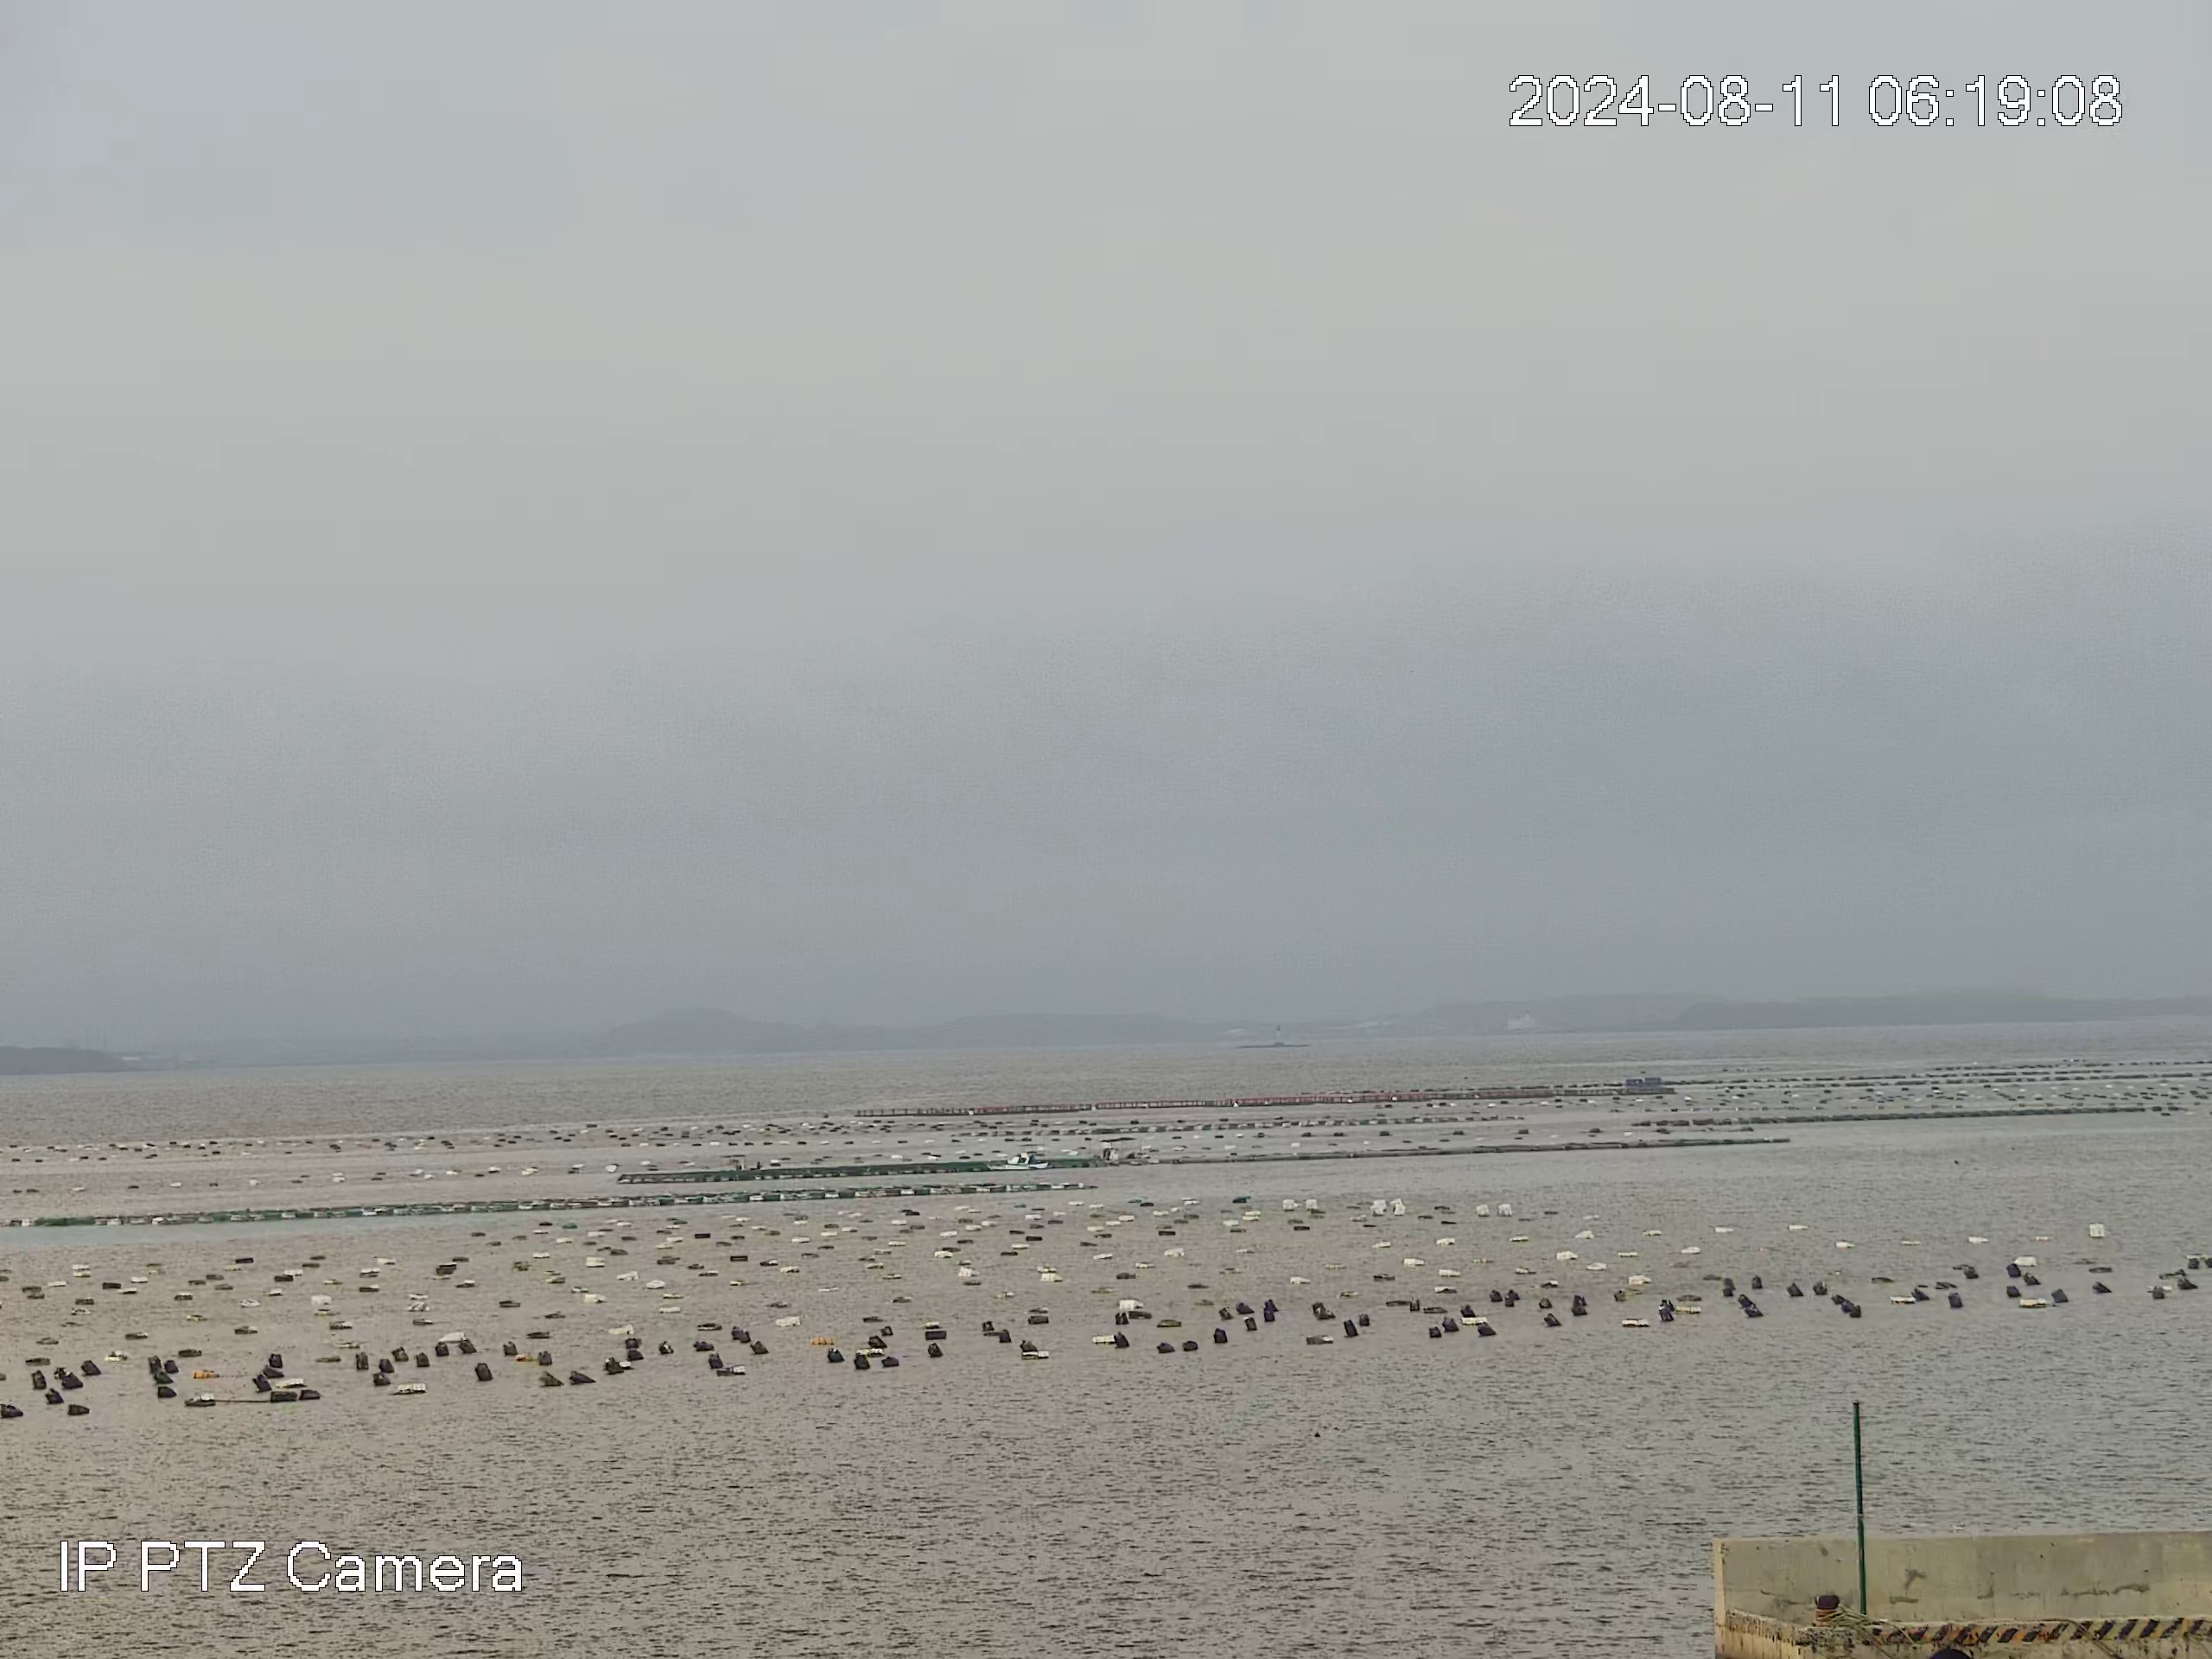boat: (984, 1148, 1050, 1173)
